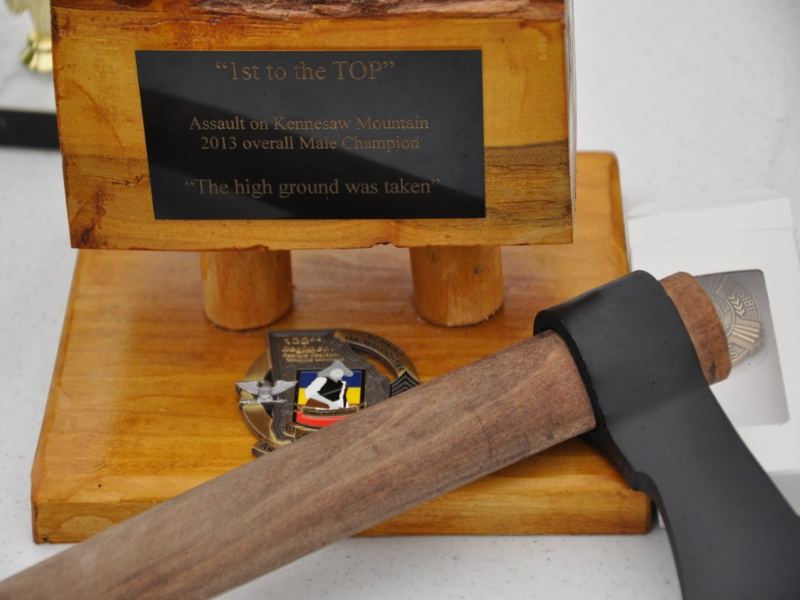axe: (484, 265, 798, 600)
